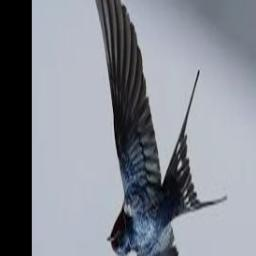Swallow: (83, 0, 227, 256)
